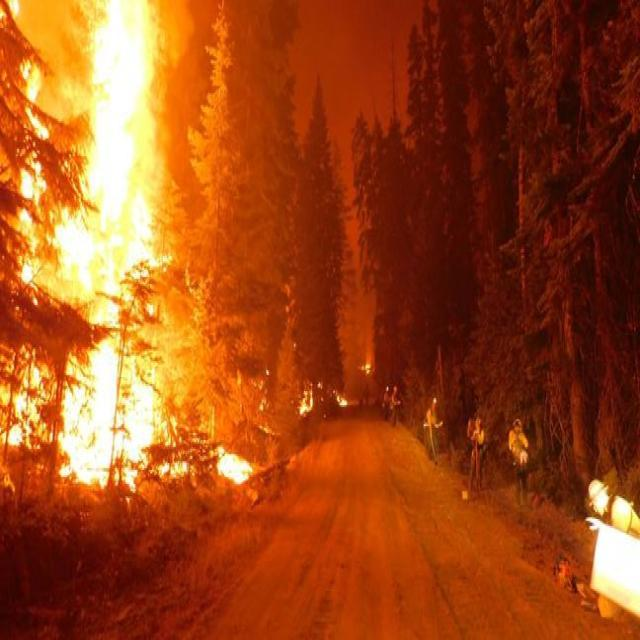Fire: (65, 2, 162, 484)
